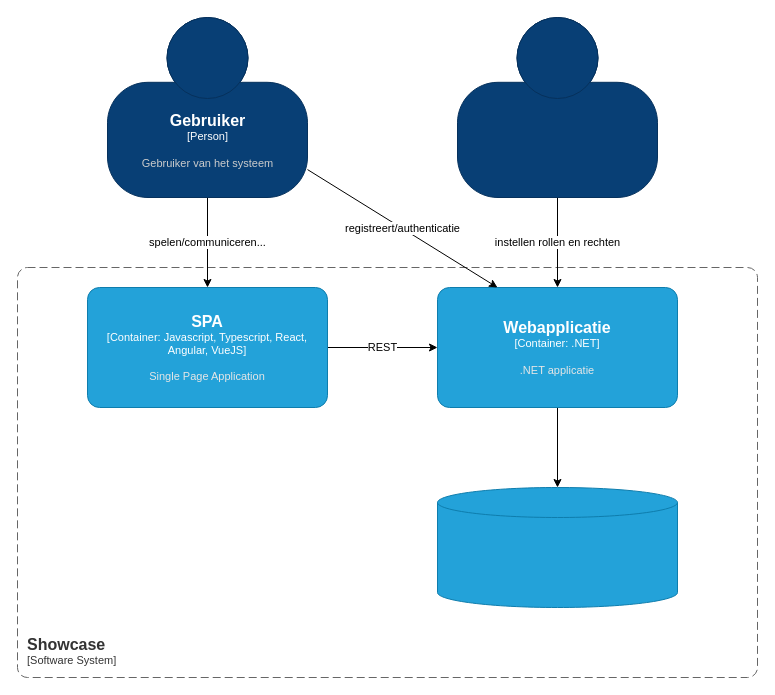
Some shapes in this 775 by 695 pixel diagram are drawn without their labels. The centre of each missing label's shape, as x and y in pixels:
Admin [Person] Admin van gebruikers: rollen en rechten: (x=557, y=107)
Container name [Database: SQL Server] Database van de applicatie: (x=557, y=547)
